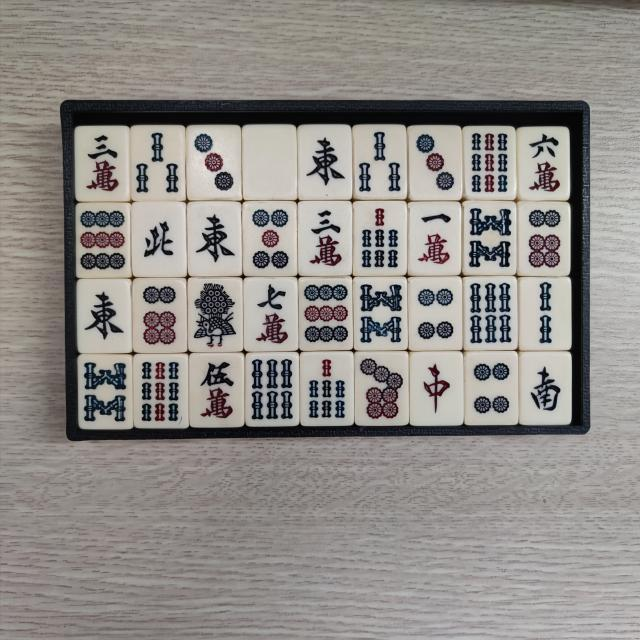hdr: (415, 358, 458, 421)
hdw: (249, 130, 295, 196)
hwe: (81, 284, 128, 350), (302, 129, 348, 194), (192, 206, 238, 270)
hwn: (137, 206, 181, 270)
hws: (524, 358, 566, 420)
sb1: (192, 282, 240, 350)
sb2: (524, 282, 566, 348)
sb3: (132, 132, 180, 200), (356, 130, 402, 200)
sb6: (250, 354, 296, 420), (468, 280, 513, 346)
sb7: (304, 356, 350, 422), (358, 206, 402, 272)
sb8: (468, 206, 514, 274), (359, 281, 405, 348), (82, 360, 128, 426)
sb9: (139, 358, 184, 424), (468, 132, 512, 196)
sc1: (414, 206, 456, 270)
sc3: (80, 131, 124, 197), (305, 206, 348, 272)
sc5: (194, 358, 238, 424)
sc6: (522, 132, 564, 196)
sc7: (250, 280, 294, 346)
sd3: (412, 130, 458, 197), (192, 131, 238, 197)
sd4: (413, 282, 458, 348), (471, 357, 514, 420)
sd5: (248, 203, 294, 270)
sd6: (139, 283, 182, 349), (523, 208, 565, 273)
sd7: (358, 358, 404, 422)
sd9: (78, 210, 126, 276), (305, 280, 352, 346)
